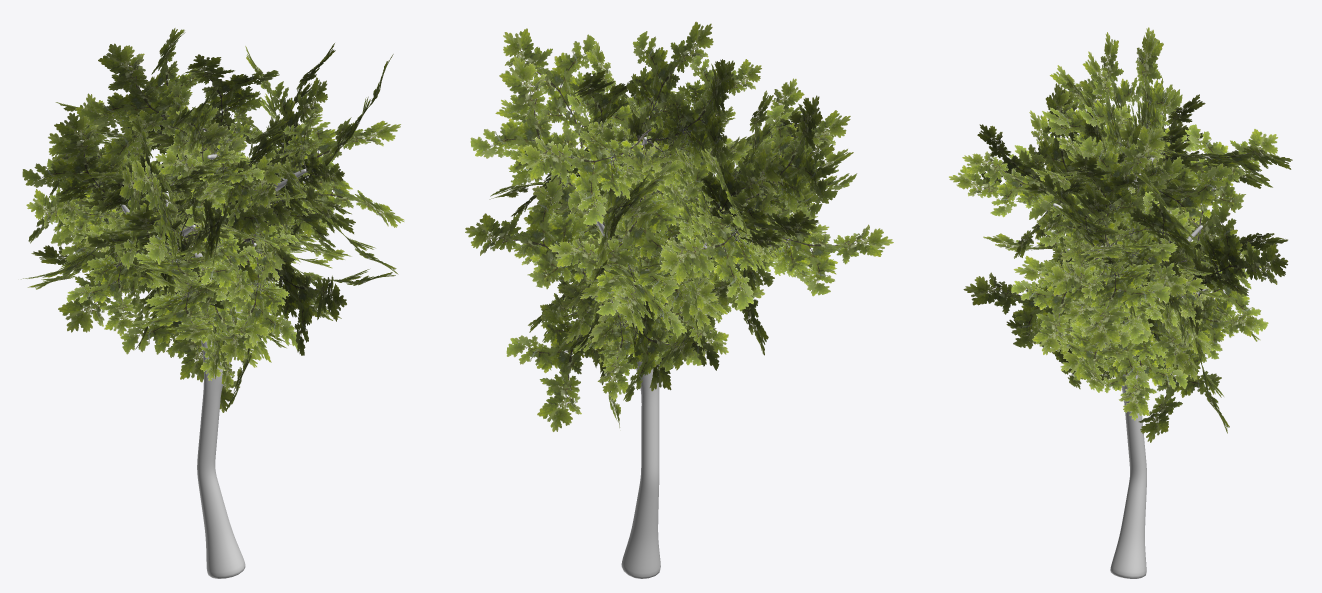
The model's file is TreeSmall.fbx.
3 views of the same model, side by side, from view 1: azimuth 30°, elevation 25°; view 2: azimuth 150°, elevation 25°; view 3: azimuth 270°, elevation 25° (orthographic). The views are drawn at different scales.
Visible parts, largest first — view 1: Decorative Tree; view 2: Decorative Tree; view 3: Decorative Tree.
Boxes of the visible parts, bbox=[...] form: Decorative Tree: bbox=[21, 28, 404, 578]; Decorative Tree: bbox=[465, 21, 893, 578]; Decorative Tree: bbox=[949, 27, 1292, 578].
Bounding box in the file's own units: 124 × 166 × 108.
2 materials, 1 textured.
